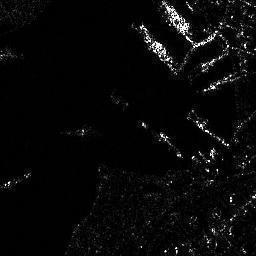ship: (130, 19, 181, 82), (156, 2, 195, 42)
